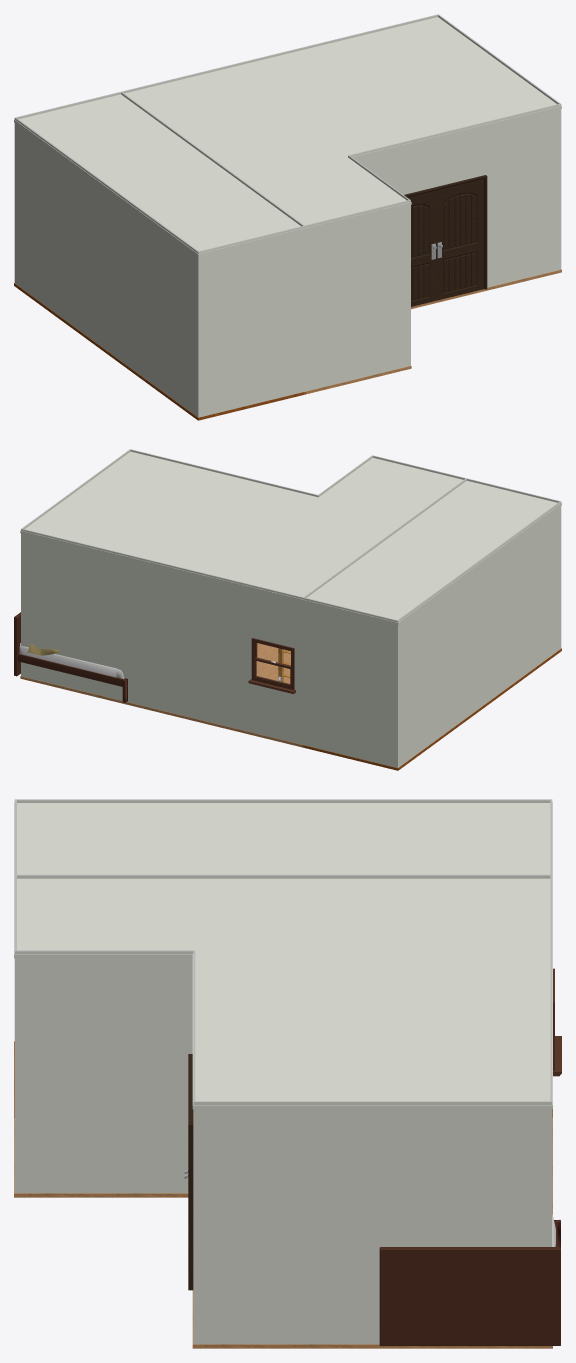
File: ProcTHOR-Train-66.glb
3 renders of one model, top to bottom at view 1: azimuth 30°, elevation 25°; view 2: azimuth 150°, elevation 25°; view 3: azimuth 270°, elevation 25°, orthographic. The views are drawn at different scales.
Parts seen in each view (by area): view 1: Ceiling#room|2|c, WallInside#wall|exterior|8.11|0.00|8.11|6.08, Ceiling#room|3|c, WallInside#wall|exterior|0.00|4.06|4.06|4.06, WallInside#wall|exterior|6.08|6.08|8.11|6.08, WallInside#wall|exterior|4.06|6.08|6.08|6.08, Doorway_Door_9b, Doorway_Door_9a, Floor#room|3|f, WallInside#wall|2|0.00|0.00|6.08|0.00, Floor#room|2|f, Doorway_Double_9 (+1 smaller); view 2: WallInside#wall|exterior|0.00|0.00|6.08|0.00, Ceiling#room|2|c, WallInside#wall|exterior|8.11|0.00|8.11|6.08, Ceiling#room|3|c, WallInside#wall|exterior|6.08|0.00|8.11|0.00, Bed_30, Floor#room|2|f, Window_Hung_36x32, Floor#room|3|f, WallInside#wall|2|0.00|4.06|4.06|4.06, WallInside#wall|3|6.08|0.00|6.08|6.08; view 3: Ceiling#room|2|c, WallInside#wall|exterior|0.00|0.00|0.00|4.06, WallInside#wall|exterior|4.06|4.06|4.06|6.08, Ceiling#room|3|c, Bed_30, Floor#room|2|f, WallInside#wall|2|6.08|0.00|6.08|6.08, WallInside#wall|3|8.11|0.00|8.11|6.08, Doorway_Double_9, WallInside#wall|3|6.08|0.00|6.08|6.08.
Boxes of the visible parts, x1=… form: Ceiling#room|2|c: x1=121, y1=17, x2=561, y2=230; WallInside#wall|exterior|8.11|0.00|8.11|6.08: x1=14, y1=118, x2=198, y2=417; Ceiling#room|3|c: x1=14, y1=94, x2=305, y2=256; WallInside#wall|exterior|0.00|4.06|4.06|4.06: x1=350, y1=104, x2=561, y2=287; WallInside#wall|exterior|6.08|6.08|8.11|6.08: x1=198, y1=226, x2=305, y2=417; WallInside#wall|exterior|4.06|6.08|6.08|6.08: x1=304, y1=200, x2=410, y2=391; Doorway_Door_9b: x1=436, y1=179, x2=483, y2=300; Doorway_Door_9a: x1=407, y1=190, x2=436, y2=306; Floor#room|3|f: x1=14, y1=283, x2=305, y2=420; WallInside#wall|2|0.00|0.00|6.08|0.00: x1=121, y1=15, x2=437, y2=93; Floor#room|2|f: x1=304, y1=269, x2=561, y2=394; Doorway_Double_9: x1=404, y1=175, x2=487, y2=289; WallInside#wall|exterior|0.00|0.00|6.08|0.00: x1=21, y1=529, x2=303, y2=744; Ceiling#room|2|c: x1=20, y1=451, x2=463, y2=601; WallInside#wall|exterior|8.11|0.00|8.11|6.08: x1=398, y1=501, x2=561, y2=767; Ceiling#room|3|c: x1=302, y1=480, x2=561, y2=625; WallInside#wall|exterior|6.08|0.00|8.11|0.00: x1=303, y1=597, x2=397, y2=767; Bed_30: x1=14, y1=612, x2=127, y2=702; Floor#room|2|f: x1=20, y1=643, x2=303, y2=747; Window_Hung_36x32: x1=248, y1=638, x2=295, y2=693; Floor#room|3|f: x1=302, y1=648, x2=561, y2=770; WallInside#wall|2|0.00|4.06|4.06|4.06: x1=130, y1=449, x2=318, y2=497; WallInside#wall|3|6.08|0.00|6.08|6.08: x1=304, y1=478, x2=466, y2=597; Ceiling#room|2|c: x1=14, y1=877, x2=552, y2=1109; WallInside#wall|exterior|0.00|0.00|0.00|4.06: x1=193, y1=1101, x2=552, y2=1344; WallInside#wall|exterior|4.06|4.06|4.06|6.08: x1=15, y1=950, x2=194, y2=1193; Ceiling#room|3|c: x1=14, y1=802, x2=552, y2=877; Bed_30: x1=379, y1=1214, x2=560, y2=1345; Floor#room|2|f: x1=14, y1=1117, x2=552, y2=1348; WallInside#wall|2|6.08|0.00|6.08|6.08: x1=16, y1=875, x2=551, y2=878; WallInside#wall|3|8.11|0.00|8.11|6.08: x1=16, y1=800, x2=551, y2=802; Doorway_Double_9: x1=188, y1=1054, x2=193, y2=1290; WallInside#wall|3|6.08|0.00|6.08|6.08: x1=15, y1=874, x2=551, y2=875.
Size of what is drawn, in the model's own units: 8.25 by 3.09 by 6.23.
Materials: 132 (45 with a texture image).
